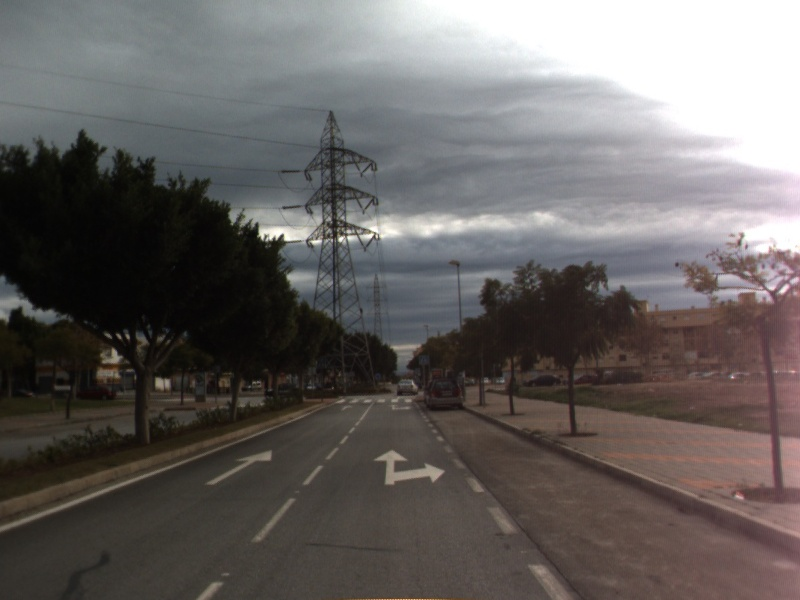STRAIGHT: (202, 448, 274, 487), (339, 403, 355, 412)
STRAIGHT_RIGHT: (371, 447, 448, 487), (385, 402, 414, 412)
